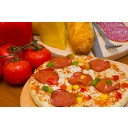pepperonipizza: (33, 57, 128, 108)
